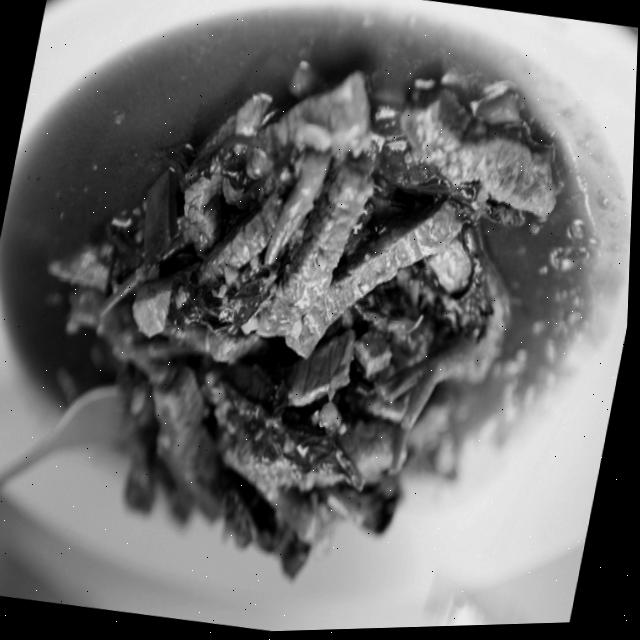牛肉菜式: (0, 0, 623, 624)
